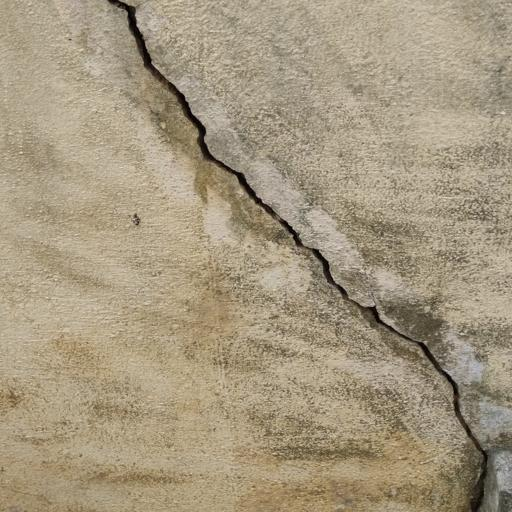major_crack: (103, 0, 495, 506)
